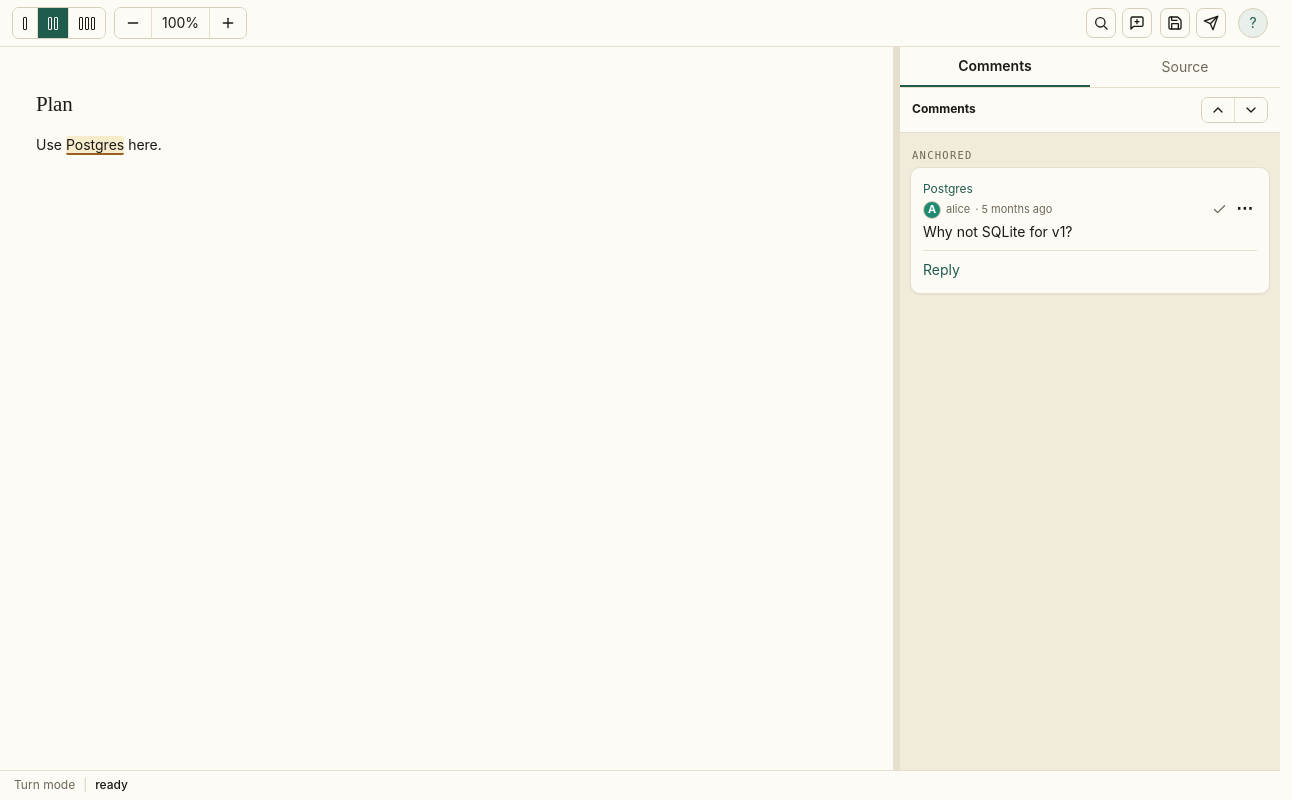
Scenario: App comment-thread actions (memory-backed) › delete: ⋯ → Delete removes the thread card
Expected: the element that starts with "Postgres" is shown, [910,167,1270,294]
Click the button titled "More" at (1244, 208), box [1232,203,1257,214]
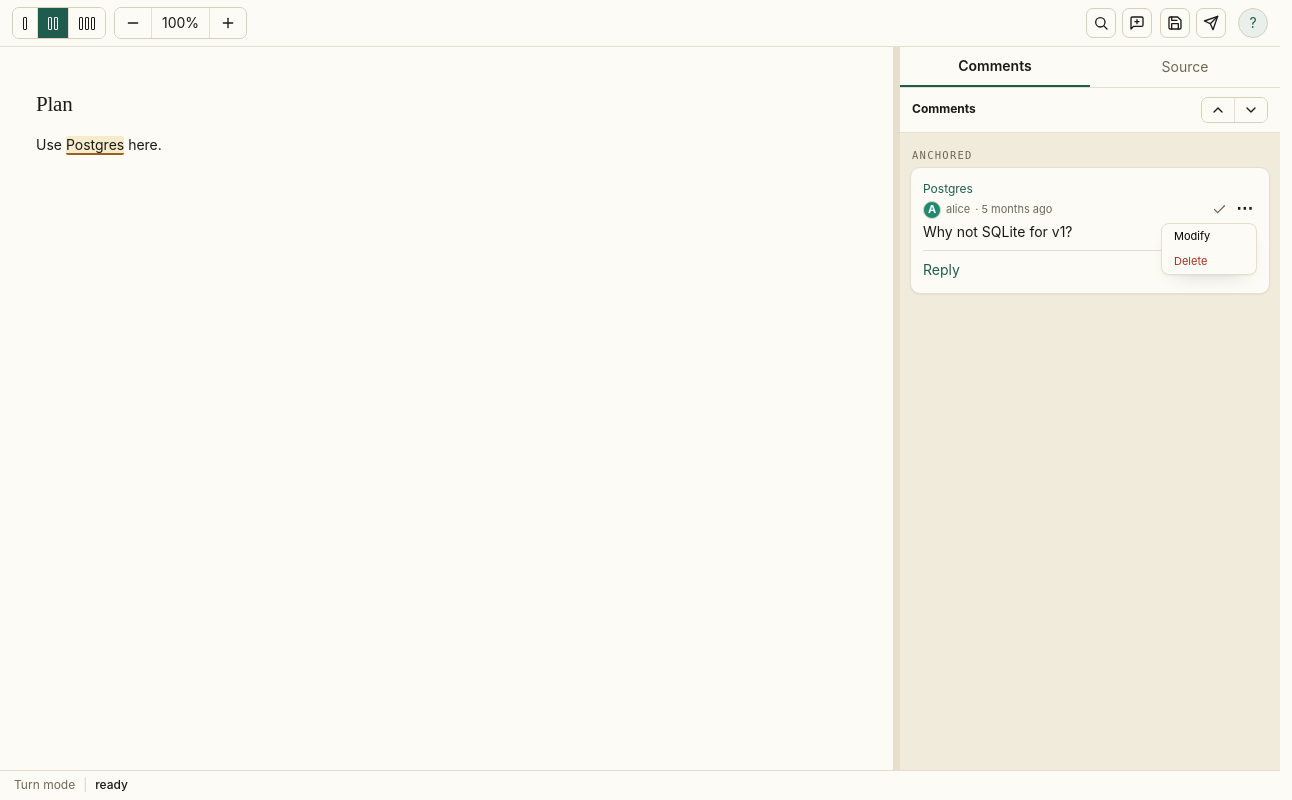
Click the button "Delete" at (1209, 262), box [1162,249,1256,274]
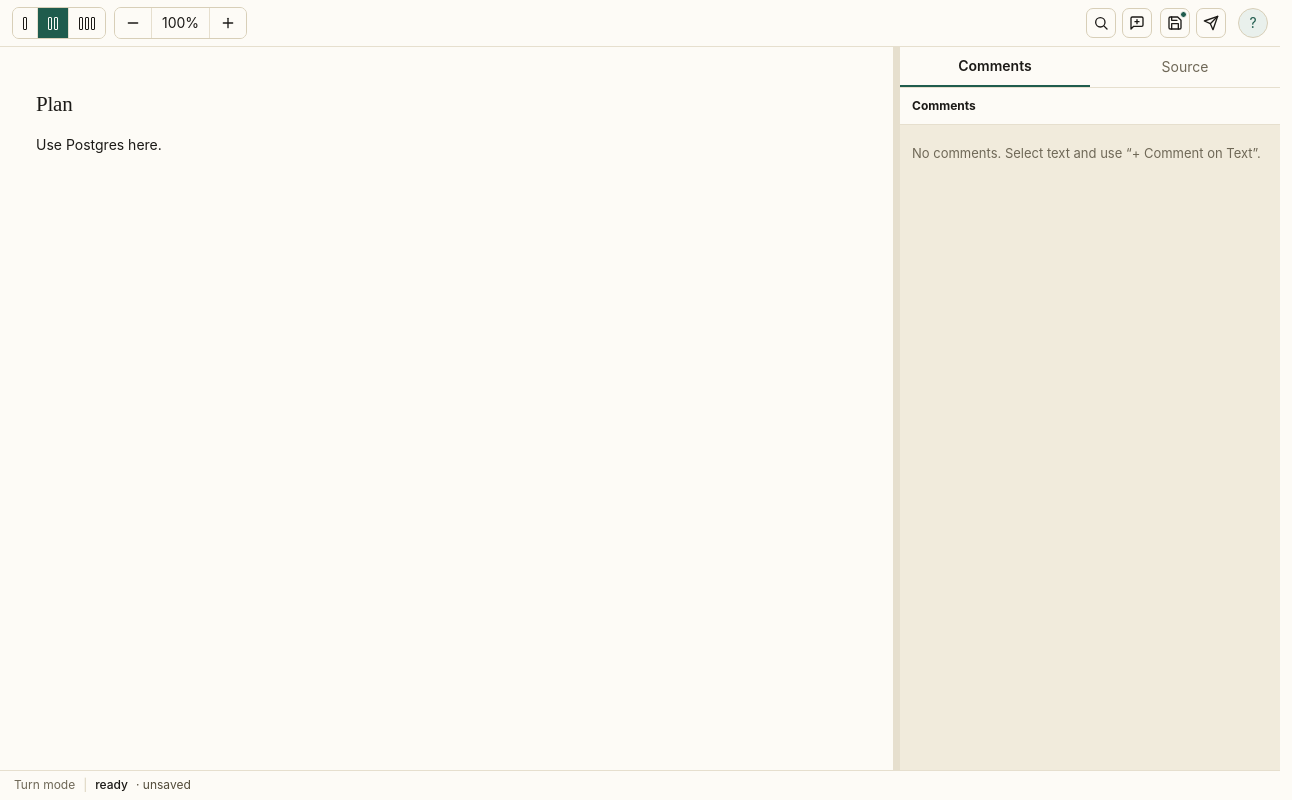
Now the text "Why not SQLite for v1?" is gone
